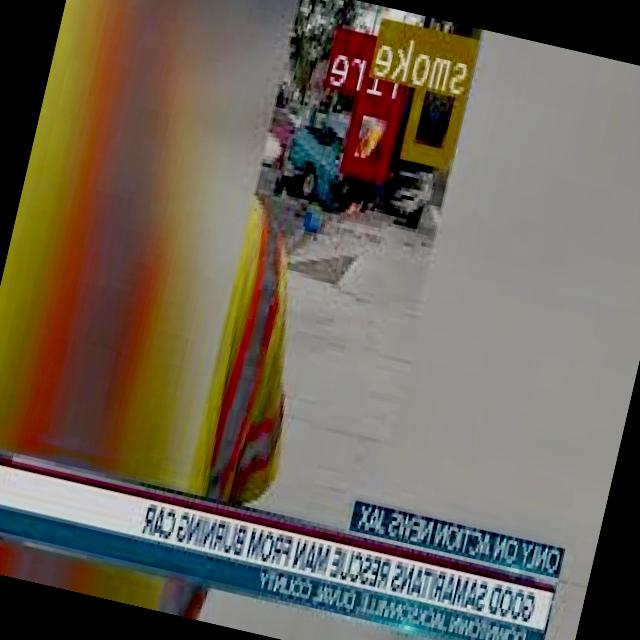fire: (343, 94, 403, 179)
smoke: (404, 26, 479, 164)
